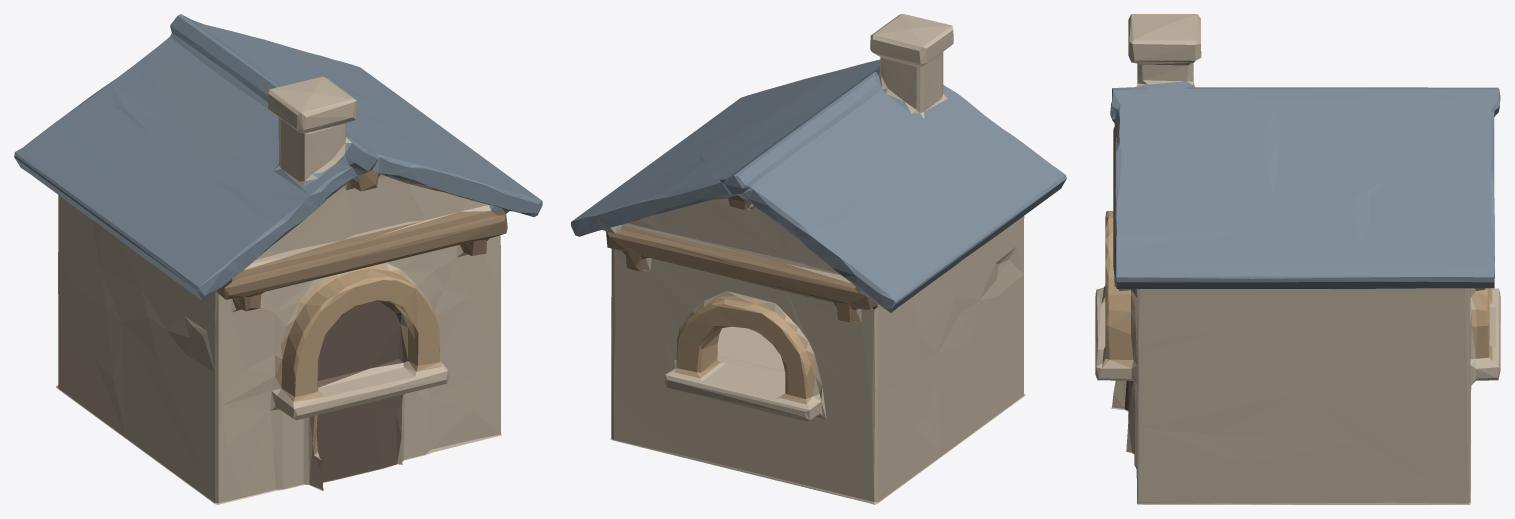
3 views of the same model, side by side, from view 1: azimuth 30°, elevation 25°; view 2: azimuth 150°, elevation 25°; view 3: azimuth 270°, elevation 25° (orthographic). The views are drawn at different scales.
Visible parts, largest first — view 1: geometry_0; view 2: geometry_0; view 3: geometry_0.
Part boxes in pixels (box(x1,y1,x2,y2)): geometry_0: box(14, 14, 542, 504); geometry_0: box(571, 14, 1066, 504); geometry_0: box(1095, 14, 1500, 504).
Bounding box in the file's own units: 0.912 × 0.9418 × 0.8879.
